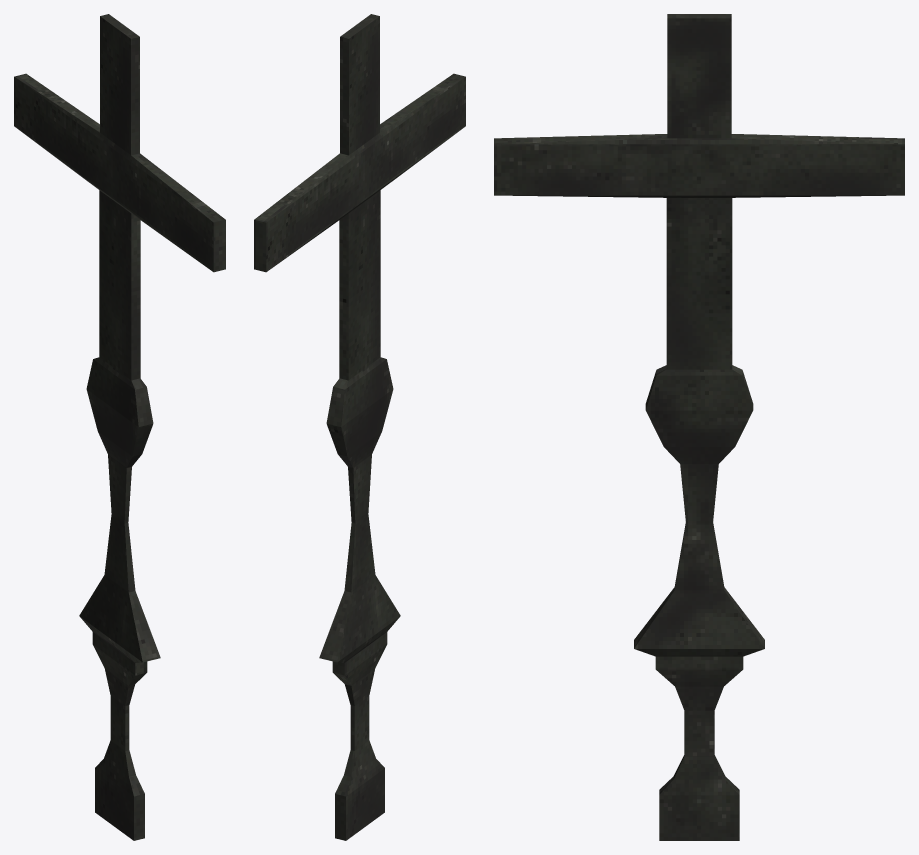
Rendered from cross3.fbx.
The picture shows the model from 3 angles, left to right: view 1: azimuth 30°, elevation 25°; view 2: azimuth 150°, elevation 25°; view 3: azimuth 270°, elevation 25°; orthographic projection. The views are drawn at different scales.
Parts seen in each view (by area): view 1: Cube.002; view 2: Cube.002; view 3: Cube.002.
Part boxes in pixels (box(x1,y1,x2,y2)): Cube.002: box(14, 14, 225, 840); Cube.002: box(254, 14, 465, 840); Cube.002: box(494, 14, 904, 840).
Size of the model in its own units: 34.95 by 1477 by 669.
